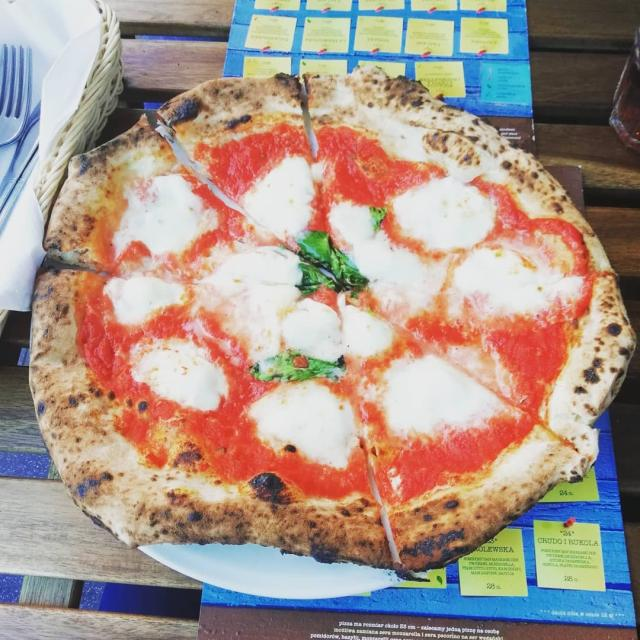basil: (292, 228, 373, 300), (251, 346, 348, 388), (368, 204, 386, 238)
pizza: (31, 67, 634, 574)
